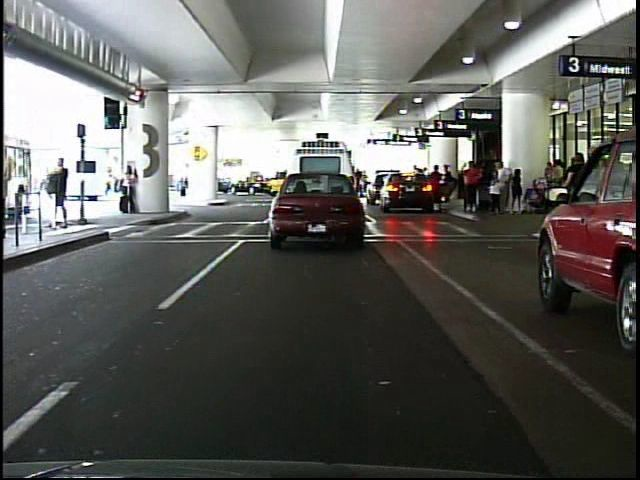person: (563, 149, 597, 227), (51, 153, 75, 233), (169, 159, 196, 202), (119, 161, 140, 216), (463, 160, 481, 215)
